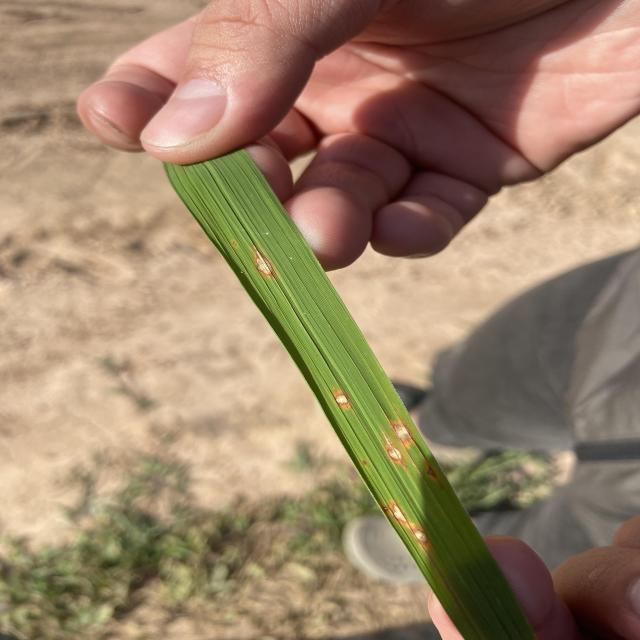Dao on: (381, 431, 404, 467), (253, 247, 273, 275), (410, 523, 429, 550), (391, 421, 412, 445), (391, 501, 408, 523), (334, 389, 350, 408), (427, 466, 437, 478), (382, 506, 389, 511), (232, 241, 237, 246)
